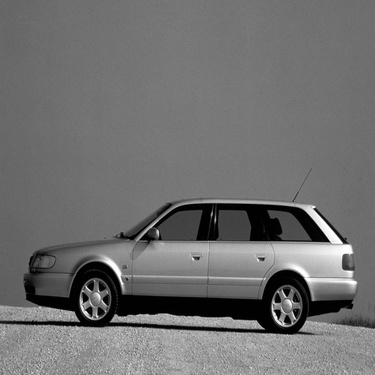car: (18, 188, 361, 338)
